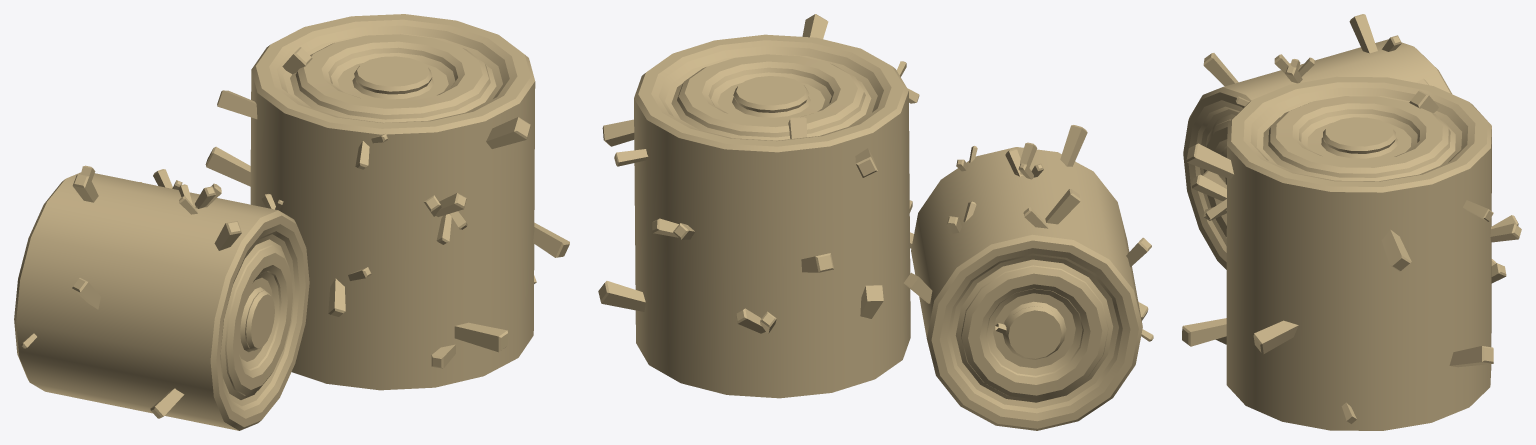
The model's file is haystack-compressed.glb.
The picture shows the model from 3 angles, left to right: view 1: azimuth 30°, elevation 25°; view 2: azimuth 150°, elevation 25°; view 3: azimuth 270°, elevation 25°; orthographic projection. The views are drawn at different scales.
Visible parts, largest first — view 1: haystack; view 2: haystack; view 3: haystack.
Boxes of the visible parts, box(x1,y1,x2,y2) form: haystack: box(14, 14, 569, 430); haystack: box(598, 14, 1153, 430); haystack: box(1182, 14, 1521, 430).
Size of the model in its own units: 2.28 by 1.1 by 1.33.
